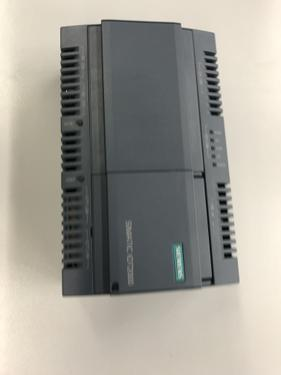device: (60, 20, 241, 297)
